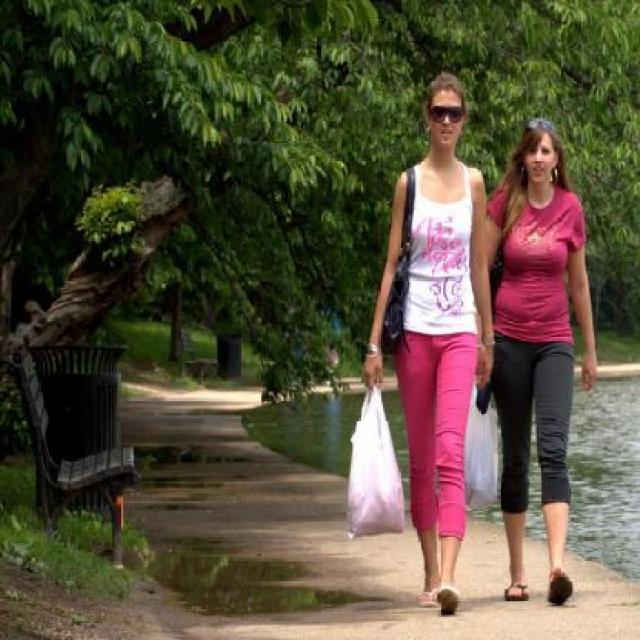plastic bag: (344, 378, 404, 540), (458, 374, 498, 517)
